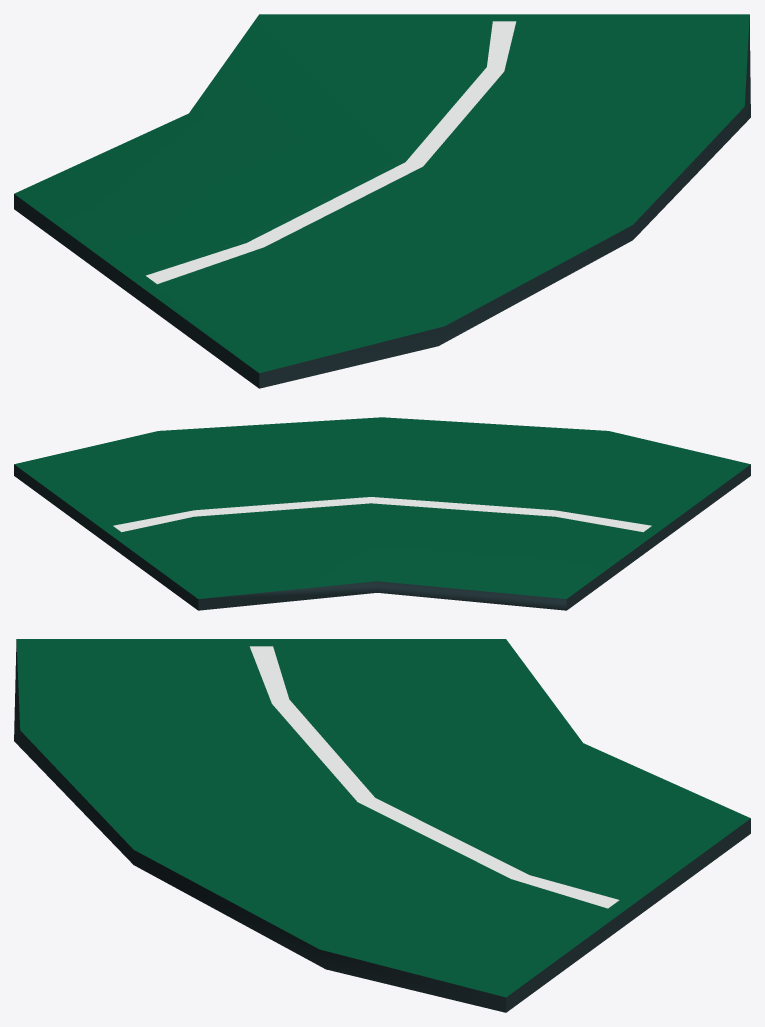
File: left3.fbx
3 renders of one model, top to bottom at view 1: azimuth 30°, elevation 25°; view 2: azimuth 150°, elevation 25°; view 3: azimuth 270°, elevation 25°, orthographic. The views are drawn at different scales.
Parts seen in each view (by area): view 1: left3; view 2: left3; view 3: left3.
Part boxes in pixels (x1,y1,x2,y2): left3: (14, 14, 750, 388); left3: (14, 417, 750, 610); left3: (14, 639, 750, 1012).
Bounding box in the file's own units: 50.01 × 1 × 43.46.
Materials: 1 (1 with a texture image).
